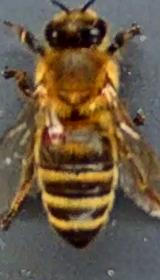varroa_mite: (34, 119, 66, 146)
